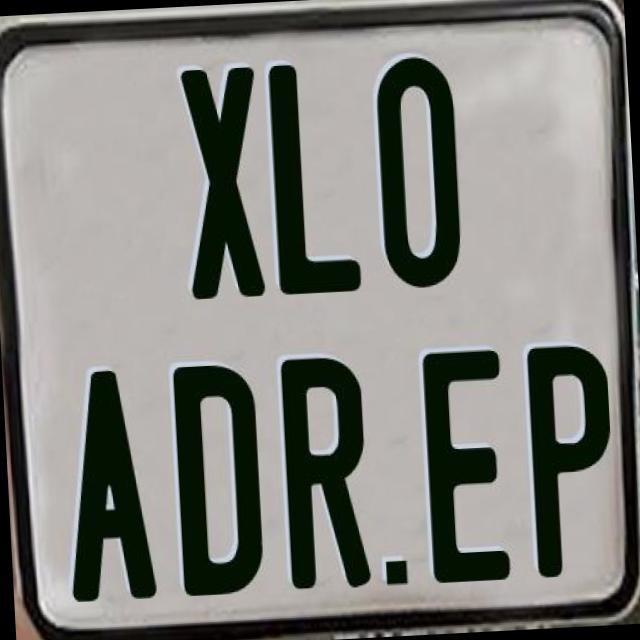0: (370, 51, 460, 292)
A: (60, 365, 164, 599)
D: (169, 363, 269, 604)
E: (418, 344, 509, 583)
L: (268, 57, 369, 290)
P: (527, 343, 623, 578)
R: (278, 352, 376, 592)
X: (180, 62, 272, 294)
